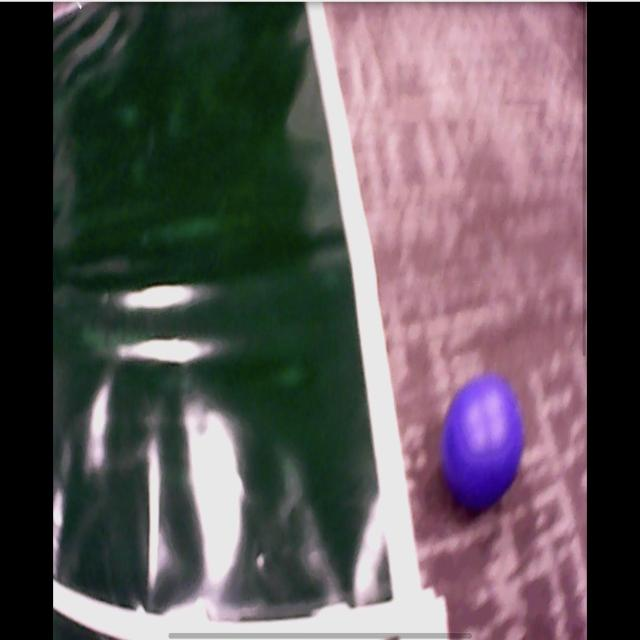ball: (443, 375, 524, 506)
